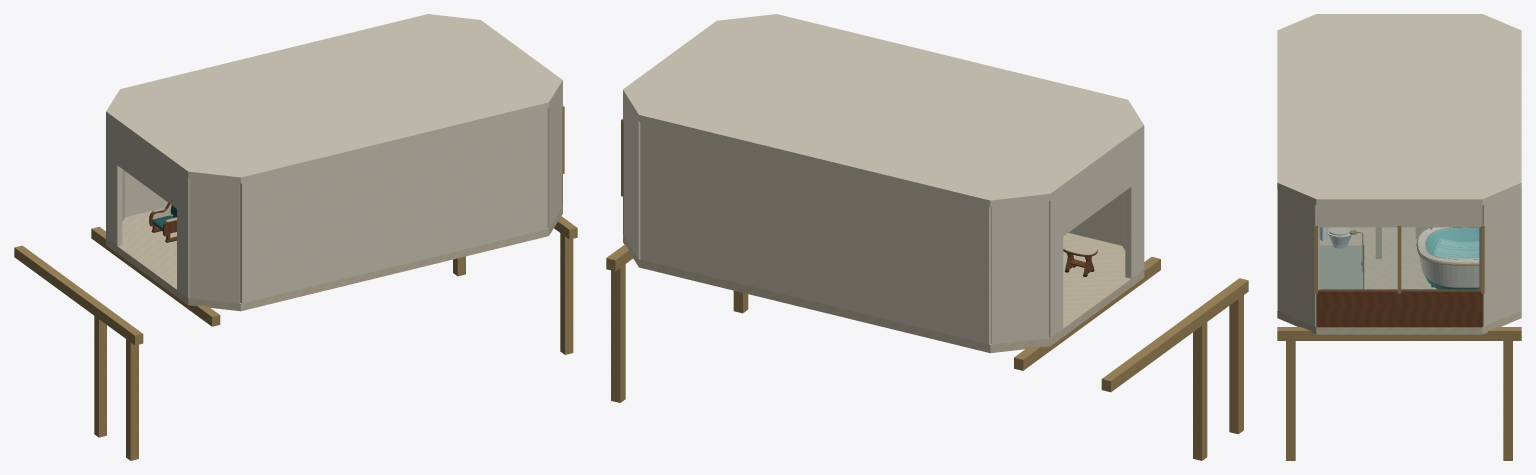
Rendered from D04_PORT_AFT_HOME_972_r001.glb.
The picture shows the model from 3 angles, left to right: view 1: azimuth 30°, elevation 25°; view 2: azimuth 150°, elevation 25°; view 3: azimuth 270°, elevation 25°; orthographic projection. The views are drawn at different scales.
Visible parts, largest first — view 1: PA972_D04SH973_Roof, PA972_D04SH973_Shell_7, PA972_D04SH973_Shell_0, PA972_D04SH973_Floor, PA972_D04SH973_EntryHeader, PA972_SF_D04SH967_ClearSupportLong, PA972_D04SH973_Shell_6, PA972_D04SH973_EntryWall_1, PA972_SF_D04SH967_Pier_15, PA972_SF_D04SH967_Pier_13, PA972_SF_D04SH967_Pier_14, PA972_D04SH973_EntryWall_0 (+2 smaller); view 2: PA972_D04SH973_Roof, PA972_D04SH973_Shell_3, PA972_D04SH973_Floor, PA972_D04SH973_Shell_2, PA972_D04SH973_EntryHeader, PA972_SF_D04SH967_ClearSupportLong, PA972_D04SH973_Shell_4, PA972_D04SH973_EntryWall_0, PA972_SF_D04SH967_Pier_16, PA972_SF_D04SH967_Pier_13, PA972_D04SH973_EntryWall_1, PA972_SF_D04SH967_Pier_14 (+2 smaller); view 3: PA972_D04SH973_Roof, PA972_D04SH973_GardenGlass, PA972_D04SH973_Floor, PA972_D04SH973_GardenDado, PA972_D04SH973_Shell_4, PA972_D04SH973_Shell_6, PA972_D04SH973_GardenHead, PA972_ReservedAquaticRest_2__Hollow continuous basin shell w, PA972_SF_D04SH967_Long_-29.35, PA972_Shower__SHW_SideGlass, PA972_ReservedAquaticRest_2__WaterSurface_VisualOnly, PA972_SF_D04SH967_Pier_15 (+6 smaller).
Boxes of the visible parts, left/top/right/bottom form: PA972_D04SH973_Roof: left=106, top=14, right=562, bottom=183; PA972_D04SH973_Shell_7: left=240, top=109, right=547, bottom=303; PA972_D04SH973_Shell_0: left=189, top=178, right=240, bottom=303; PA972_D04SH973_Floor: left=106, top=207, right=562, bottom=311; PA972_D04SH973_EntryHeader: left=117, top=126, right=176, bottom=208; PA972_SF_D04SH967_ClearSupportLong: left=14, top=245, right=143, bottom=345; PA972_D04SH973_Shell_6: left=547, top=87, right=562, bottom=228; PA972_D04SH973_EntryWall_1: left=106, top=118, right=122, bottom=245; PA972_SF_D04SH967_Pier_15: left=560, top=221, right=573, bottom=354; PA972_SF_D04SH967_Pier_13: left=126, top=327, right=138, bottom=460; PA972_SF_D04SH967_Pier_14: left=94, top=304, right=106, bottom=437; PA972_D04SH973_EntryWall_0: left=177, top=169, right=189, bottom=297; PA972_D04SH973_Roof: left=623, top=14, right=1144, bottom=207; PA972_D04SH973_Shell_3: left=640, top=122, right=990, bottom=344; PA972_D04SH973_Floor: left=623, top=233, right=1144, bottom=353; PA972_D04SH973_Shell_2: left=991, top=201, right=1048, bottom=344; PA972_D04SH973_EntryHeader: left=1063, top=142, right=1131, bottom=235; PA972_SF_D04SH967_ClearSupportLong: left=1101, top=278, right=1248, bottom=392; PA972_D04SH973_Shell_4: left=623, top=97, right=640, bottom=258; PA972_D04SH973_EntryWall_0: left=1125, top=132, right=1144, bottom=278; PA972_SF_D04SH967_Pier_16: left=611, top=250, right=625, bottom=402; PA972_SF_D04SH967_Pier_13: left=1229, top=284, right=1243, bottom=434; PA972_D04SH973_EntryWall_1: left=1049, top=191, right=1063, bottom=337; PA972_SF_D04SH967_Pier_14: left=1193, top=309, right=1207, bottom=460; PA972_D04SH973_Roof: left=1277, top=14, right=1521, bottom=205; PA972_D04SH973_GardenGlass: left=1319, top=227, right=1479, bottom=290; PA972_D04SH973_Floor: left=1277, top=227, right=1521, bottom=334; PA972_D04SH973_GardenDado: left=1316, top=289, right=1482, bottom=327; PA972_D04SH973_Shell_4: left=1479, top=189, right=1520, bottom=326; PA972_D04SH973_Shell_6: left=1278, top=189, right=1319, bottom=326; PA972_D04SH973_GardenHead: left=1316, top=205, right=1482, bottom=227; PA972_ReservedAquaticRest_2__Hollow continuous basin shell w: left=1417, top=227, right=1479, bottom=289; PA972_SF_D04SH967_Long_-29.35: left=1277, top=327, right=1521, bottom=340; PA972_Shower__SHW_SideGlass: left=1320, top=245, right=1362, bottom=288; PA972_ReservedAquaticRest_2__WaterSurface_VisualOnly: left=1427, top=229, right=1478, bottom=258; PA972_SF_D04SH967_Pier_15: left=1286, top=327, right=1295, bottom=460.
Size of the model in its own units: 15.41 by 8.58 by 7.2.
Materials: 51 (21 with a texture image).
